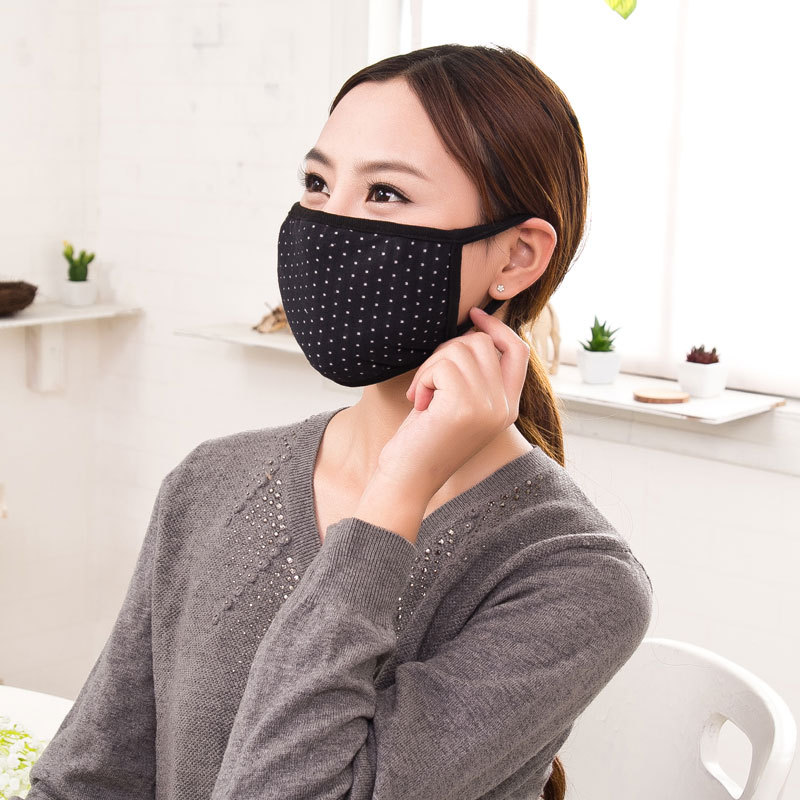face_mask: (285, 78, 488, 362)
